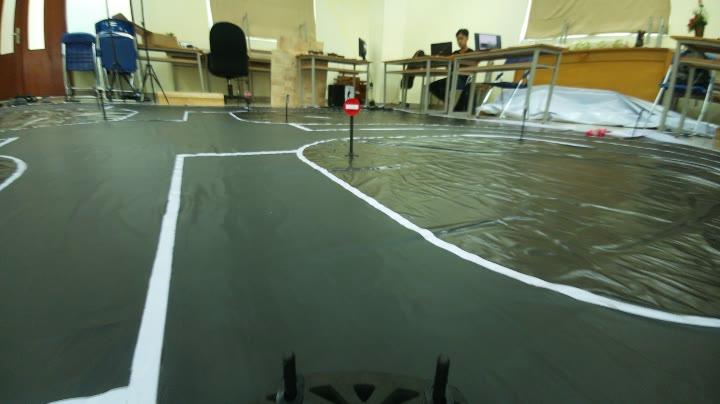no_entry: (341, 92, 367, 123)
